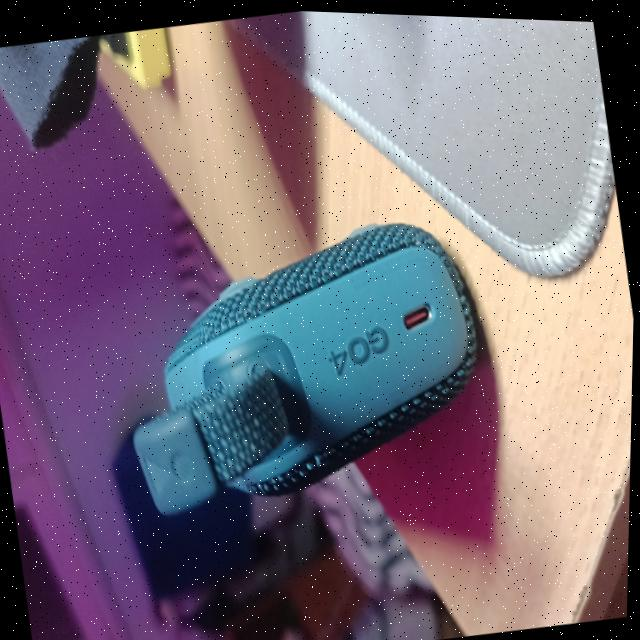column JBL: (91, 195, 508, 528)
